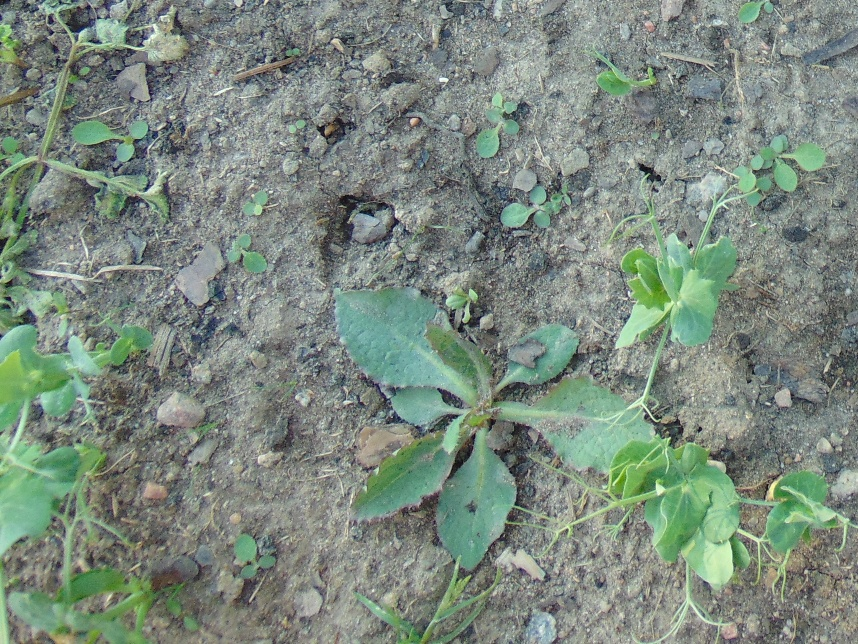crop: (526, 435, 856, 633), (1, 315, 120, 563), (622, 185, 734, 436), (17, 567, 142, 644), (587, 43, 657, 101), (82, 323, 152, 381)
weed: (331, 286, 597, 540), (1, 128, 44, 299), (736, 132, 826, 203), (71, 115, 149, 165), (500, 180, 574, 231), (380, 605, 471, 644), (473, 91, 522, 160), (232, 533, 277, 579), (228, 232, 266, 273), (736, 1, 776, 25)
